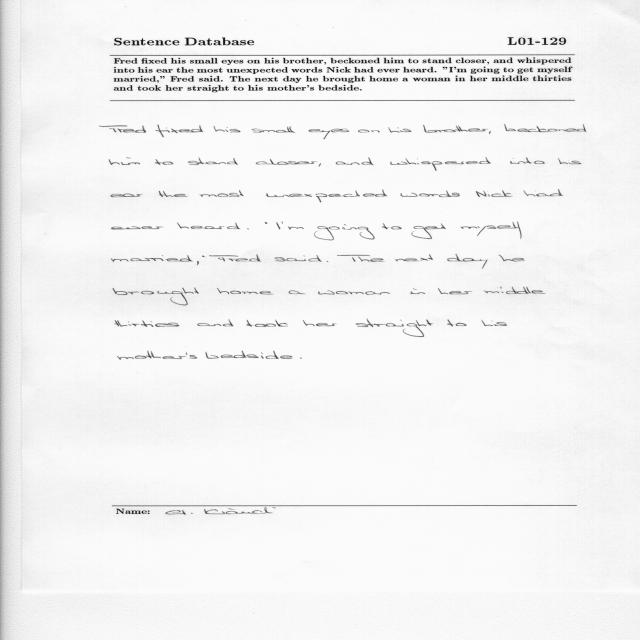word: (266, 190, 388, 203), (113, 288, 199, 306), (390, 157, 491, 171), (356, 319, 433, 337), (461, 222, 522, 239), (314, 224, 375, 240), (117, 351, 197, 360), (206, 351, 293, 359), (156, 124, 204, 137), (447, 254, 488, 269), (423, 125, 491, 134), (111, 255, 193, 262), (518, 125, 587, 133), (411, 224, 446, 239), (256, 159, 321, 167), (115, 320, 179, 327), (177, 223, 240, 230), (484, 287, 546, 294), (400, 191, 460, 198), (309, 129, 350, 139), (188, 157, 238, 165), (209, 255, 261, 262), (318, 290, 390, 295), (337, 255, 385, 262), (217, 288, 273, 294), (275, 255, 322, 262), (100, 126, 146, 133), (200, 190, 244, 197), (395, 254, 433, 262), (246, 320, 288, 327), (524, 190, 563, 197), (251, 127, 295, 133), (476, 190, 513, 197), (198, 320, 234, 327), (109, 157, 140, 165), (510, 157, 545, 164), (112, 226, 164, 230), (438, 288, 472, 294), (303, 320, 336, 326), (498, 255, 525, 262), (282, 222, 304, 230), (159, 191, 188, 197), (214, 126, 241, 132), (482, 320, 507, 326), (388, 127, 412, 133), (447, 320, 467, 327), (558, 158, 581, 164), (110, 194, 143, 198), (382, 223, 402, 229), (155, 159, 173, 165), (361, 158, 374, 166), (336, 161, 360, 165), (410, 289, 425, 295), (504, 124, 516, 131), (289, 291, 306, 295), (358, 130, 380, 133), (277, 222, 281, 229), (197, 261, 199, 265), (202, 255, 205, 257), (265, 222, 267, 224), (300, 357, 302, 359), (247, 229, 249, 230), (327, 261, 328, 262)
